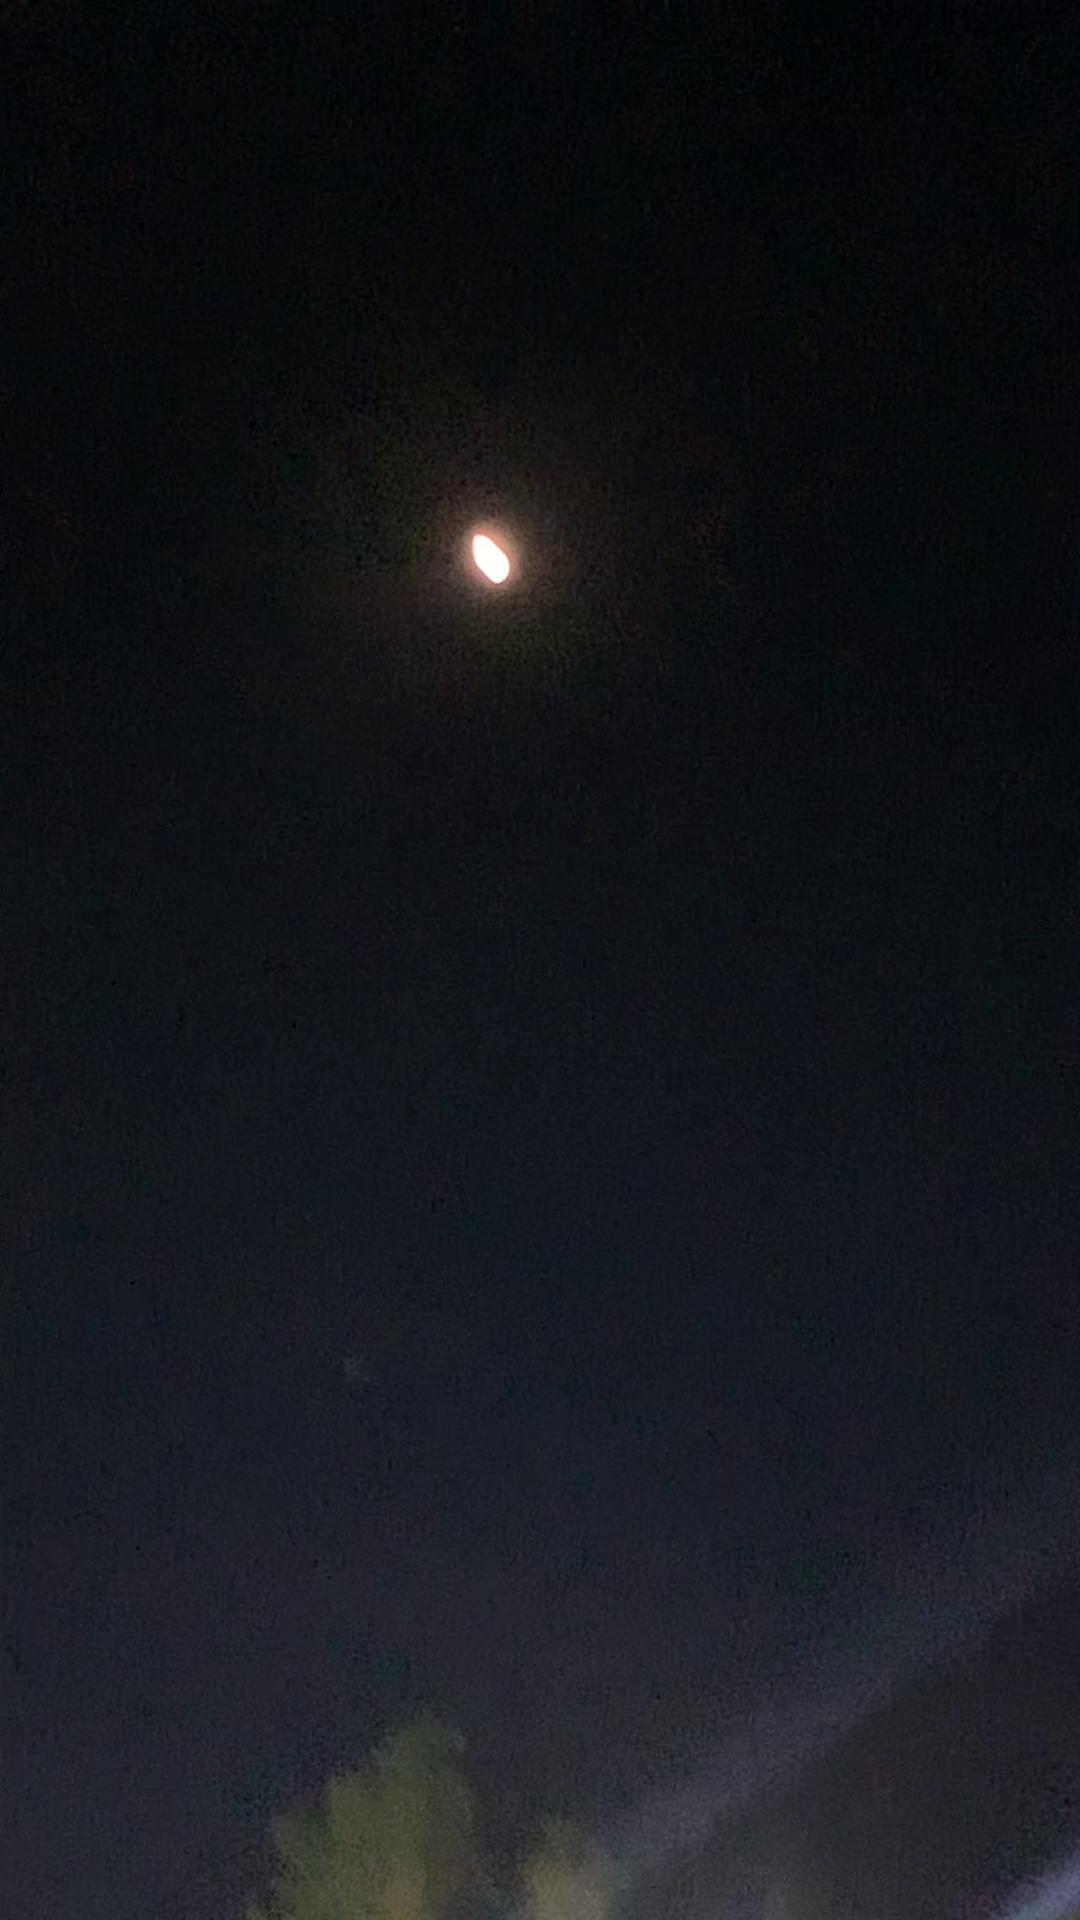moon: (452, 518, 529, 597)
